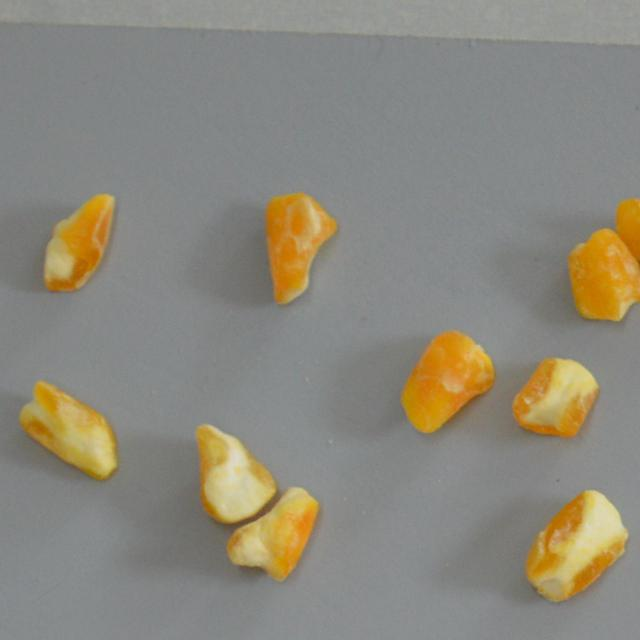pelicula: (520, 484, 634, 604), (390, 328, 504, 434), (38, 172, 124, 296), (14, 378, 117, 479), (260, 185, 338, 310), (223, 486, 318, 582), (191, 423, 276, 526), (510, 353, 600, 440), (566, 226, 640, 323), (612, 194, 640, 298)
